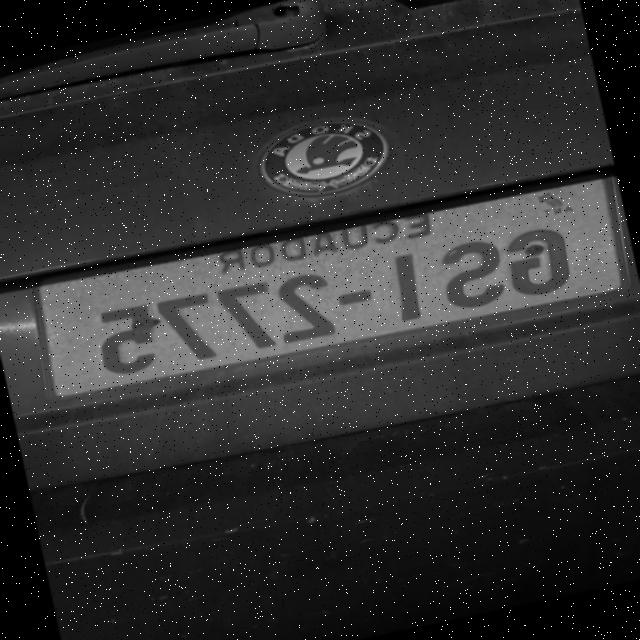Placa: (36, 179, 625, 397)
